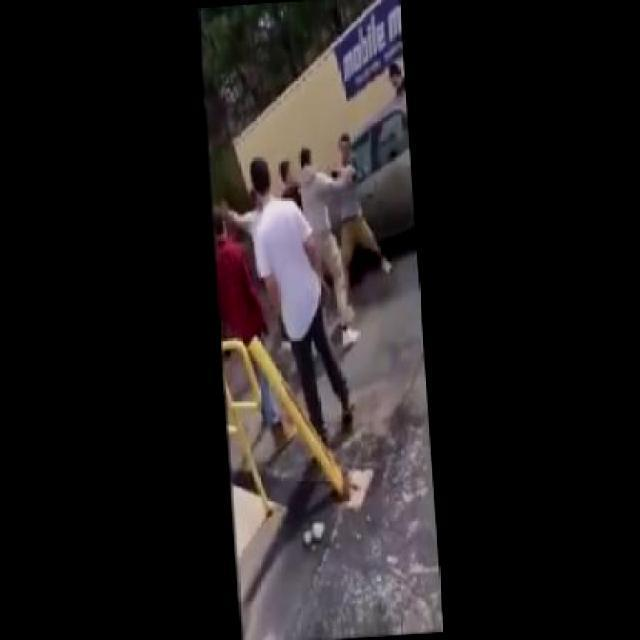fight: (296, 132, 396, 342)
